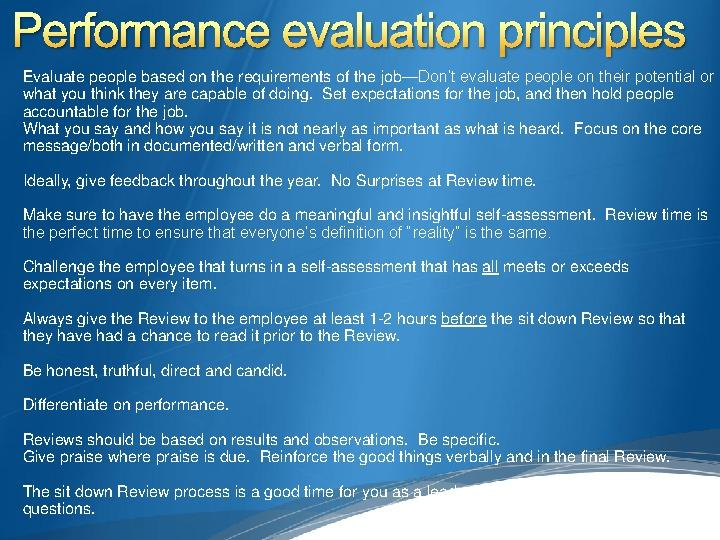paragraph: (9, 64, 720, 528)
title: (8, 6, 701, 66)
